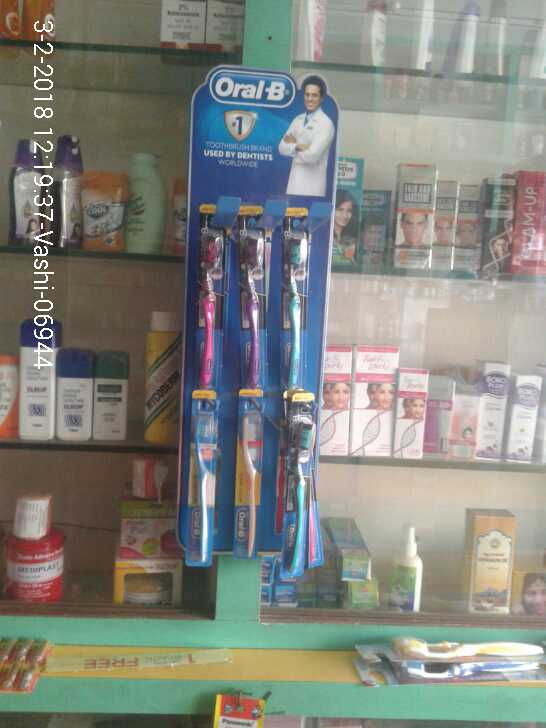oralb: (235, 220, 272, 397), (280, 227, 315, 387), (289, 402, 321, 577), (197, 218, 225, 410), (238, 411, 271, 562), (191, 418, 225, 561)
